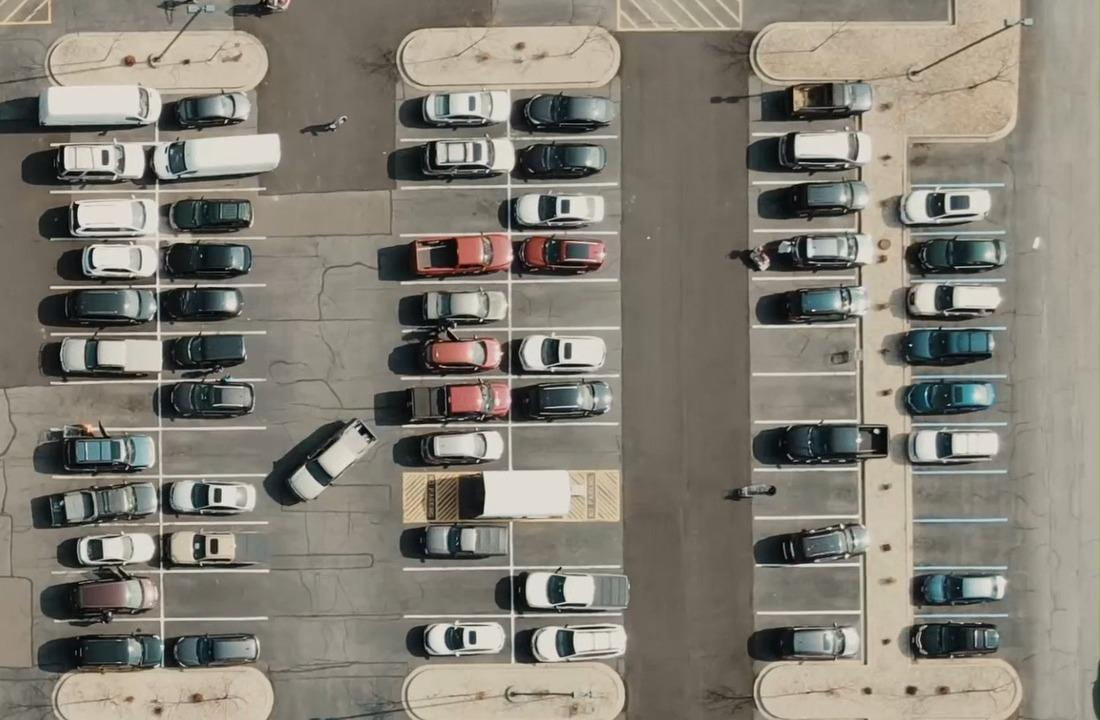car: (284, 416, 378, 502), (150, 132, 281, 182), (752, 420, 888, 466), (495, 568, 629, 613), (728, 231, 874, 272), (37, 83, 162, 127), (47, 479, 158, 527), (753, 521, 870, 565), (409, 232, 514, 278), (403, 380, 511, 423), (755, 284, 868, 325), (757, 179, 869, 220), (746, 622, 859, 662), (514, 622, 627, 662), (68, 568, 158, 618), (512, 379, 613, 421), (51, 140, 147, 184), (777, 129, 872, 172), (497, 191, 604, 229), (906, 235, 1007, 274), (522, 91, 615, 133), (515, 234, 606, 276), (898, 186, 992, 226), (63, 286, 157, 326), (61, 433, 154, 473), (905, 282, 1002, 320), (515, 140, 607, 180), (71, 631, 162, 671), (418, 331, 504, 373), (900, 327, 995, 365), (419, 136, 499, 180), (516, 334, 606, 373), (163, 240, 252, 279), (909, 620, 1000, 658), (417, 523, 508, 561), (907, 427, 999, 464), (168, 631, 260, 668), (786, 80, 873, 119), (421, 89, 507, 128), (903, 379, 995, 415), (67, 197, 151, 236), (420, 288, 508, 325), (159, 284, 244, 322), (165, 478, 252, 515), (418, 429, 504, 466), (167, 197, 253, 233), (173, 91, 252, 130), (420, 621, 505, 657), (168, 332, 246, 371), (918, 572, 1007, 605), (80, 242, 158, 279)
